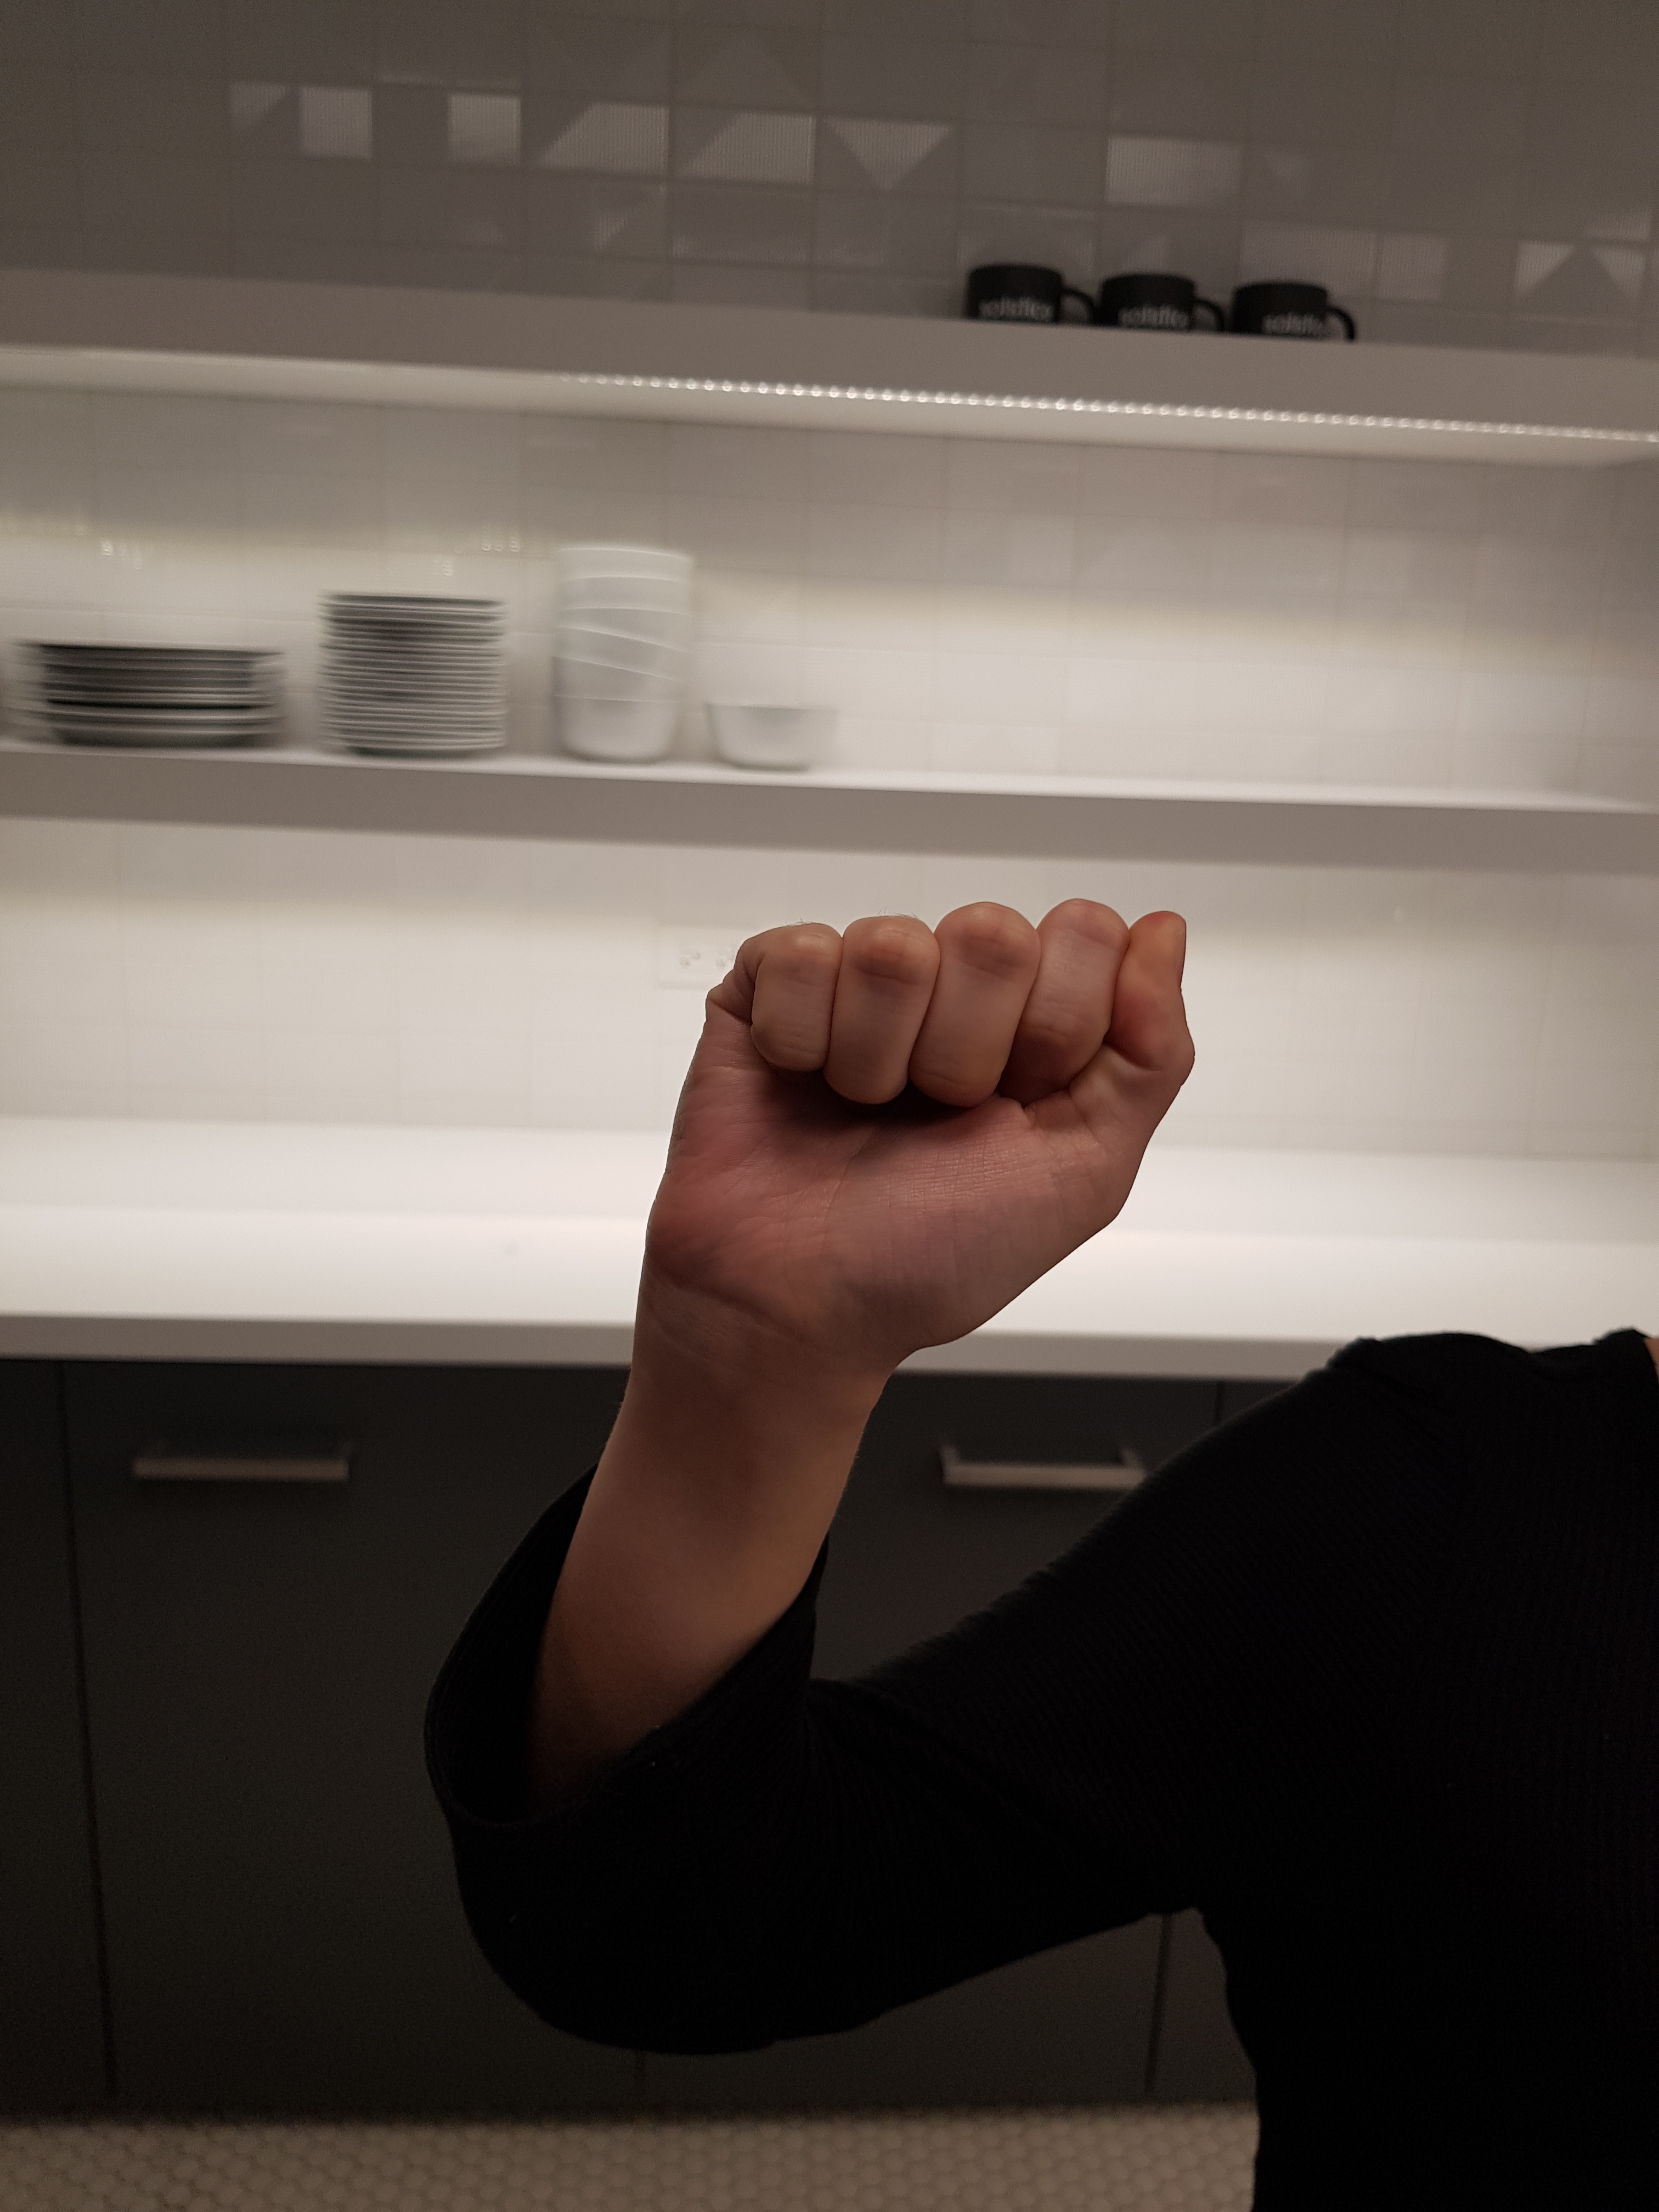a: (610, 848, 1227, 1393)
